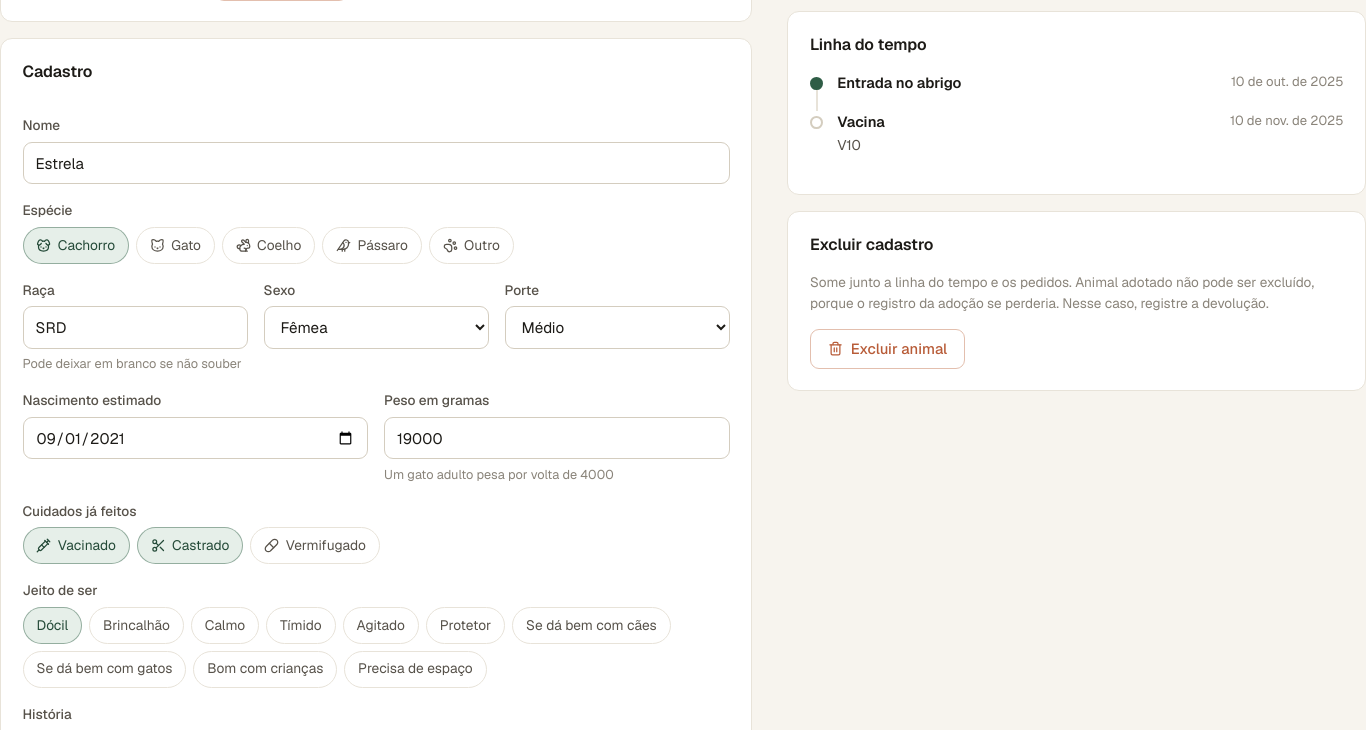
Test case: gerenciar animal › explica por que a exclusão foi recusada
(page scrolled)
Click the button "Excluir animal".
click(888, 349)  # box [810,328,965,369]
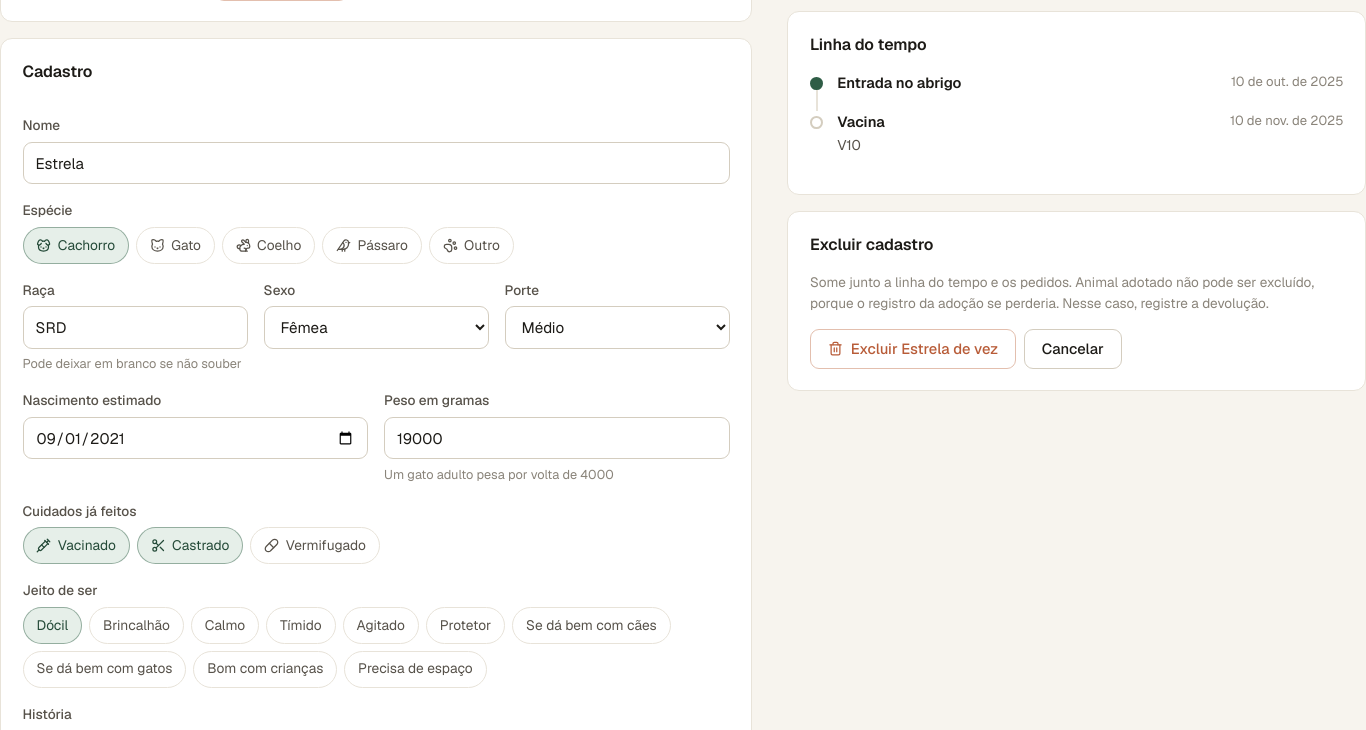
Click the button "Excluir Estrela de vez".
click(913, 349)  # box [810,328,1016,369]
(page scrolled)
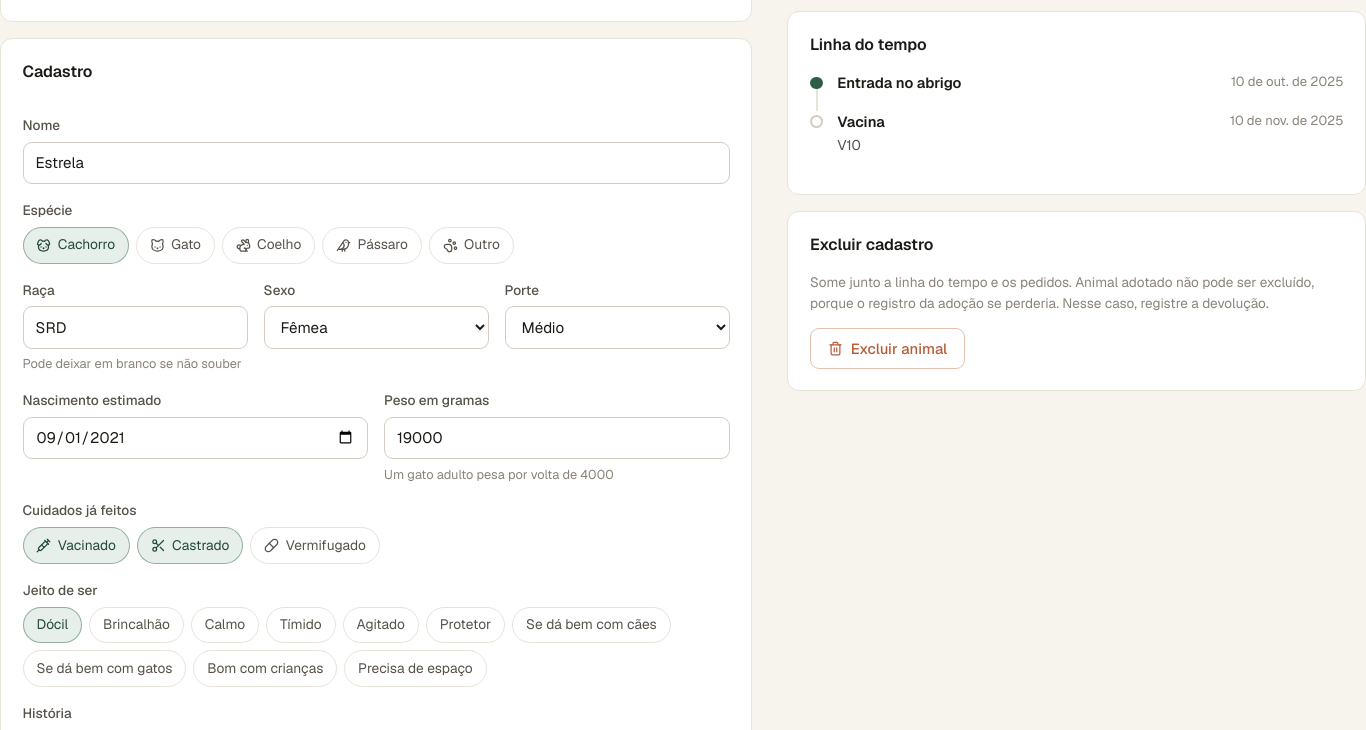
expect the button "Excluir animal" is enabled: met
Click the button "Excluir animal".
click(888, 349)  # box [810,328,965,369]
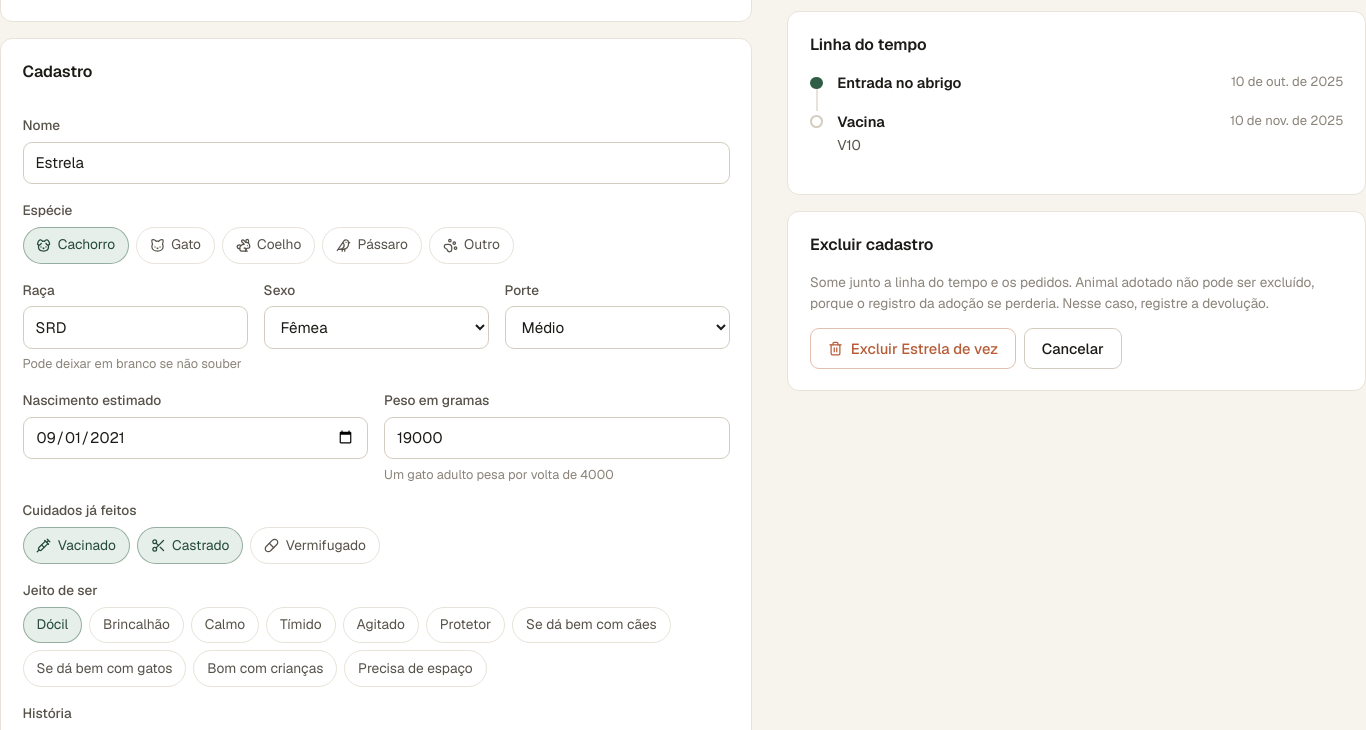
Click the button "Excluir Estrela de vez".
click(913, 349)  # box [810,328,1016,369]
(page scrolled)
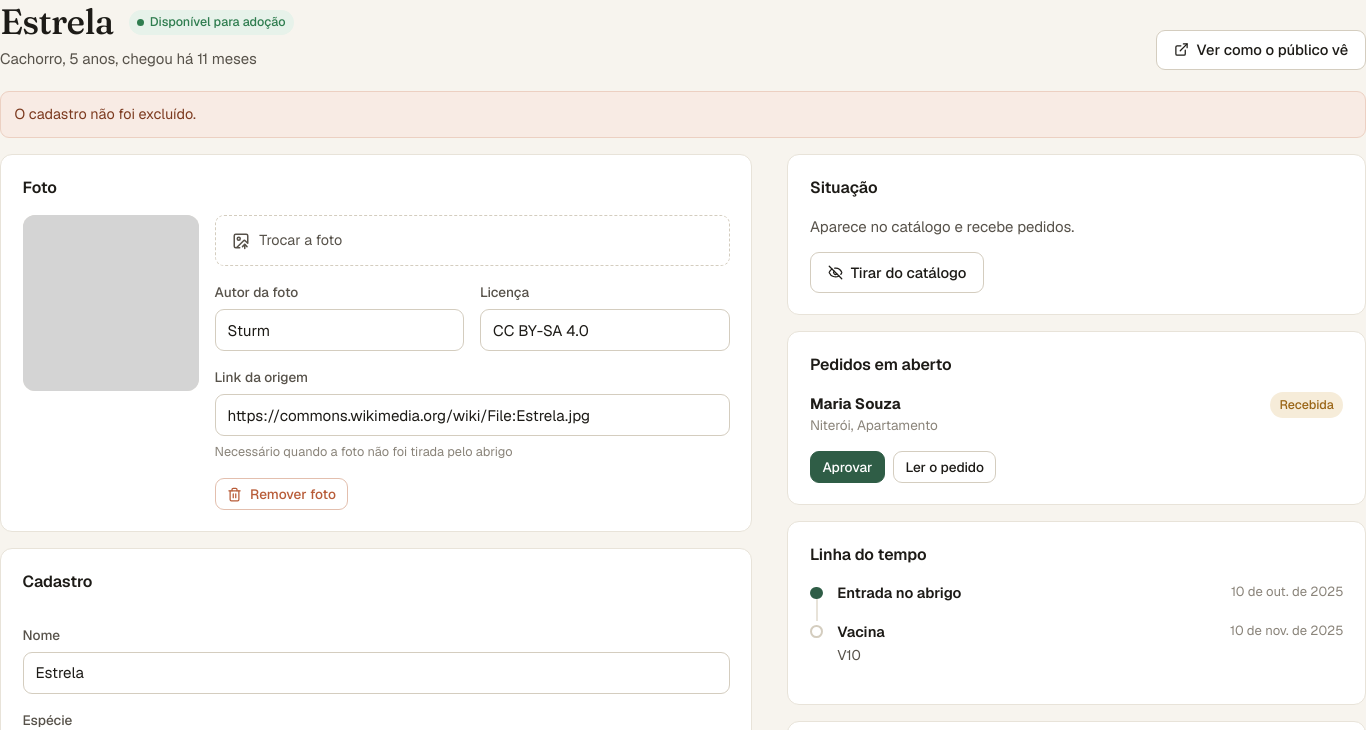
expect the text "O cadastro não foi excluído." is shown: met, box [0,91,1365,138]
